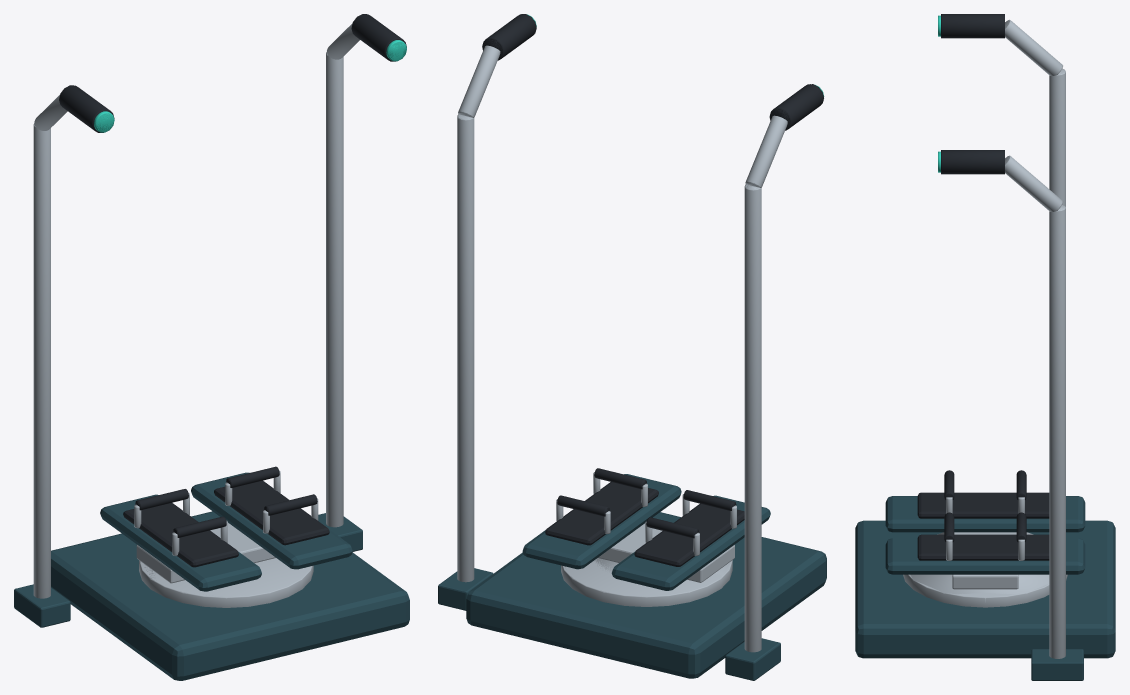
Rendered from platform-ski.glb.
The picture shows the model from 3 angles, left to right: view 1: azimuth 30°, elevation 25°; view 2: azimuth 150°, elevation 25°; view 3: azimuth 270°, elevation 25°; orthographic projection. The views are drawn at different scales.
Visible parts, largest first — view 1: base, pole, pole.001, turntable, ski_plate, ski_plate.001, foot_rubber, foot_rubber.001, pole_foot, bridge, pole_grip, pole_grip.001 (+2 smaller); view 2: base, pole.001, pole, turntable, ski_plate.001, ski_plate, foot_rubber.001, foot_rubber, pole_foot, bridge, pole_bend.001, pole_bend (+3 smaller); view 3: base, pole.001, ski_plate.001, ski_plate, foot_rubber.001, foot_rubber, pole, turntable, pole_grip.001, pole_grip, pole_foot.001, turntable.001 (+3 smaller).
Part boxes in pixels (x1,y1,x2,y2): base: (51,511,409,680); pole: (33,125,50,598); pole.001: (326,53,343,527); turntable: (139,558,313,607); ski_plate: (100,494,261,591); ski_plate.001: (191,472,352,569); foot_rubber: (123,503,238,567); foot_rubber.001: (214,480,329,545); pole_foot: (14,584,70,627); bridge: (136,522,275,583); pole_grip: (59,85,112,131); pole_grip.001: (352,14,405,60); base: (466,512,826,678); pole.001: (457,114,474,582); pole: (744,184,761,652); turntable: (561,559,732,606); ski_plate.001: (522,474,681,569); ski_plate: (611,495,770,590); foot_rubber.001: (545,482,658,545); foot_rubber: (634,503,744,566); pole_foot: (725,638,780,680); bridge: (598,523,734,582); pole_bend.001: (458,46,500,117); pole_bend: (746,116,787,187); base: (855,520,1115,658); pole.001: (1049,205,1065,658); ski_plate.001: (885,538,1085,574); ski_plate: (885,496,1085,532); foot_rubber.001: (917,534,1049,560); foot_rubber: (917,492,1049,518); pole: (1049,69,1065,206); turntable: (903,532,1067,607); pole_grip.001: (941,150,1004,174); pole_grip: (941,14,1004,38); pole_foot.001: (1031,649,1083,680); turntable.001: (910,532,1049,602).
Size of the model in its own units: 0.64 by 1.04 by 0.47.
